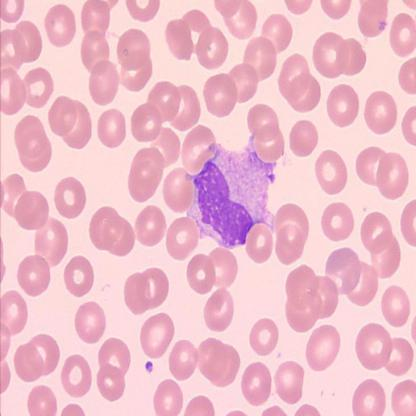Monocyte: (184, 129, 280, 250)
